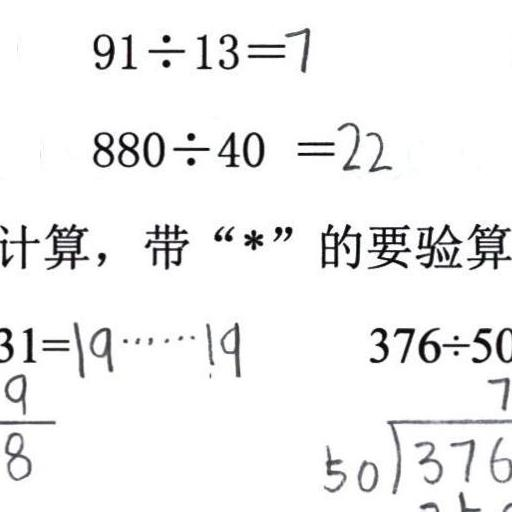ans: (68, 314, 244, 379), (332, 116, 391, 173), (282, 23, 311, 72)
